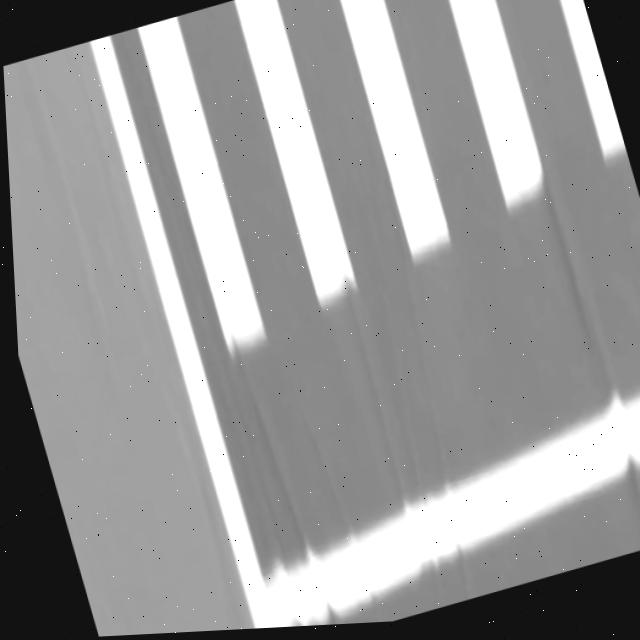left: (89, 35, 275, 629)
